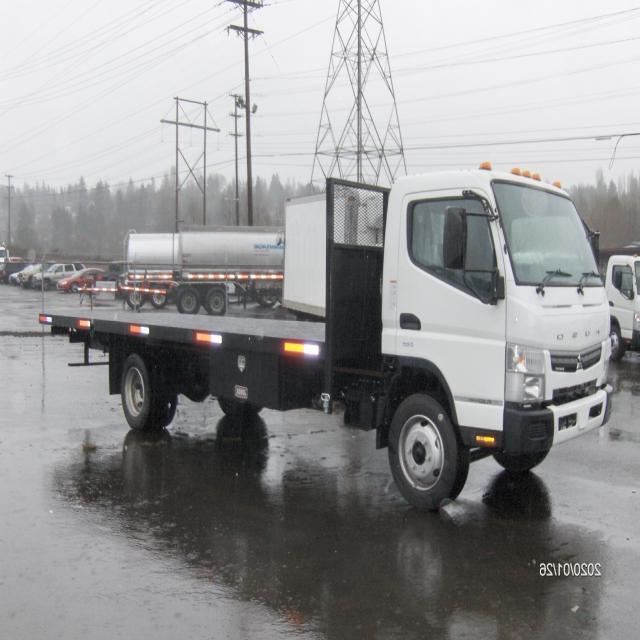truck: (39, 167, 612, 510)
